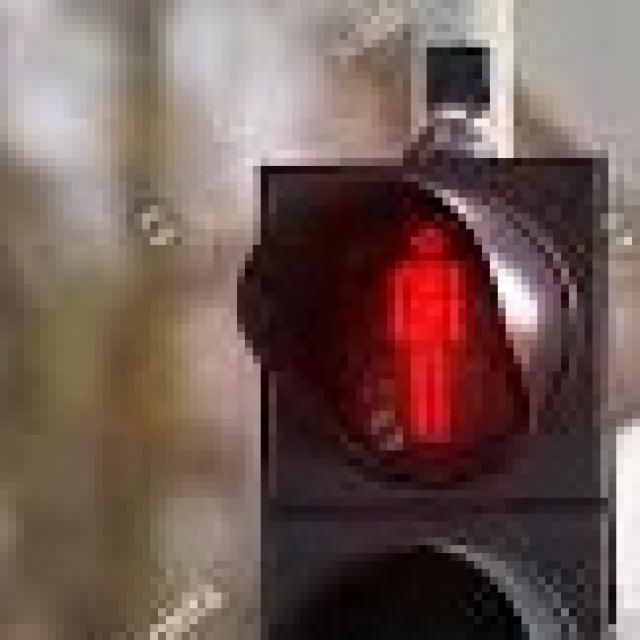red-crossing: (332, 182, 490, 458)
